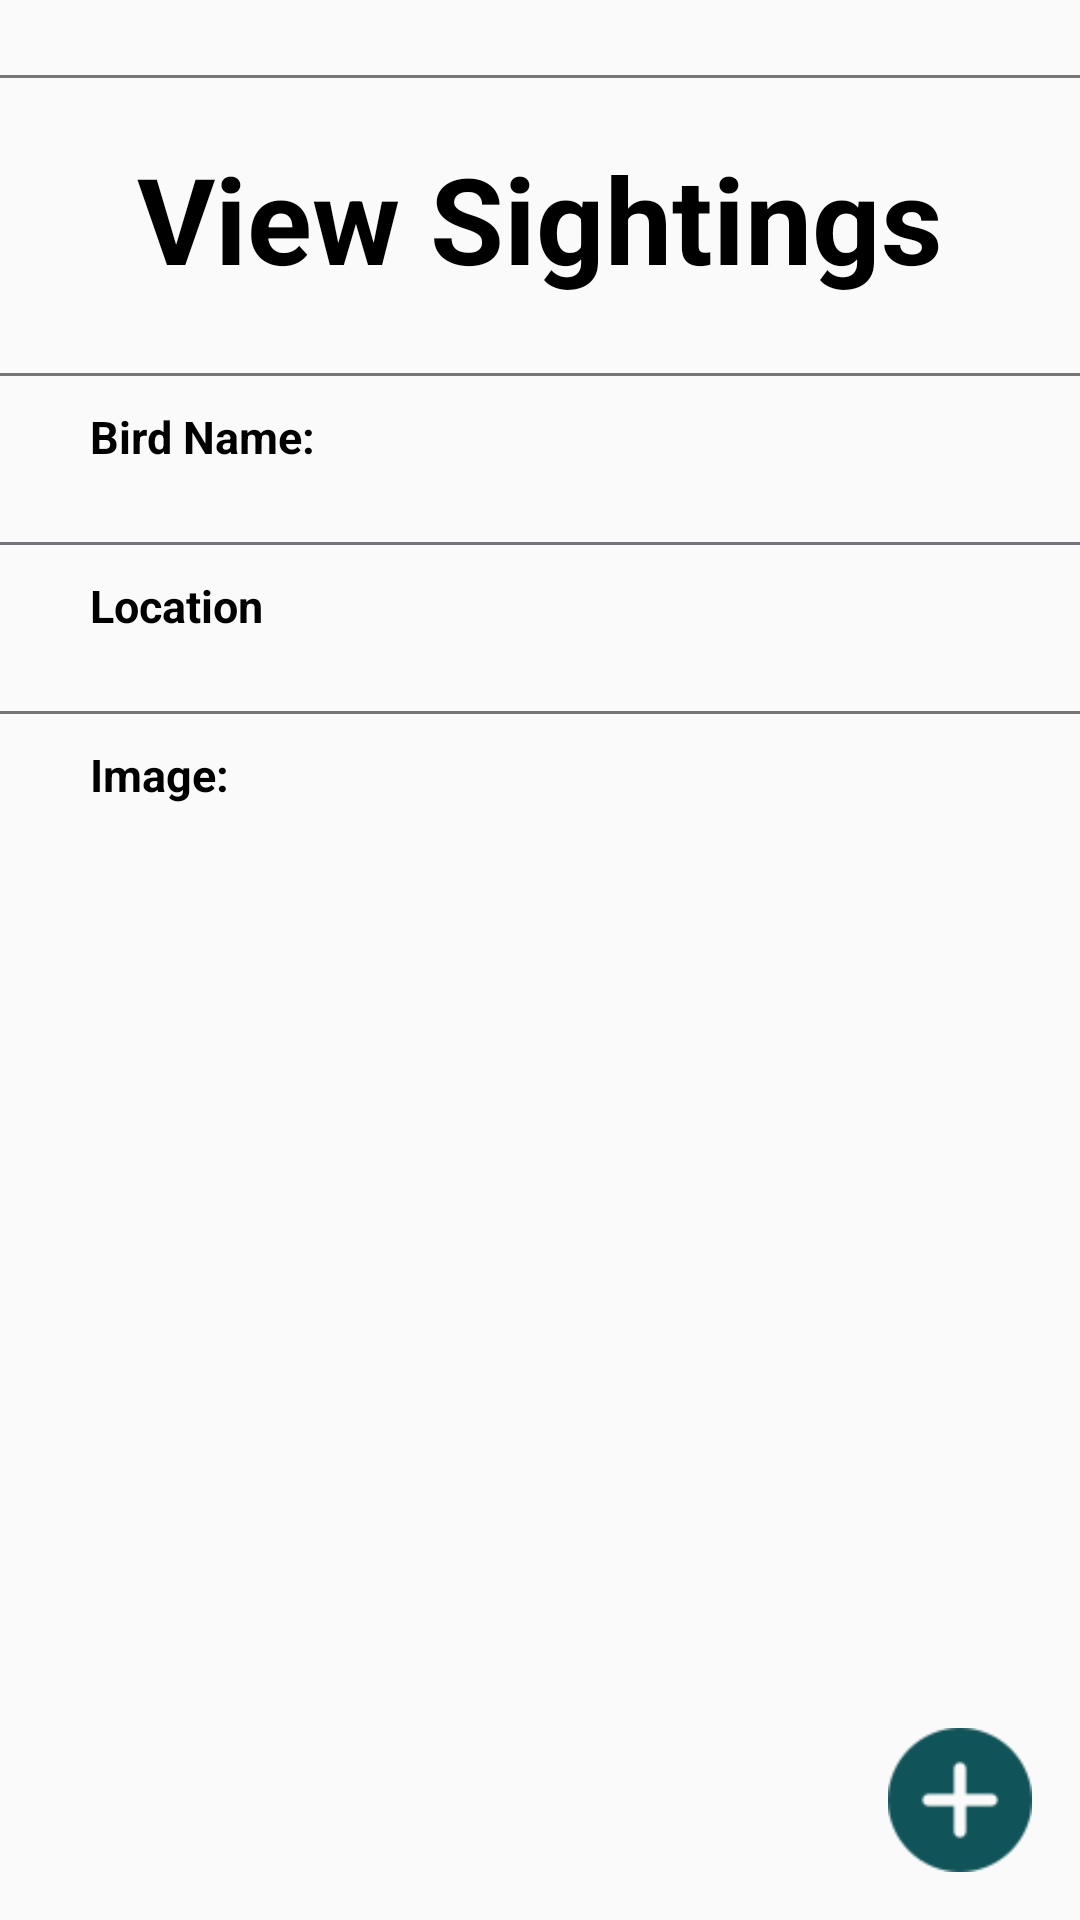

Icon click points for this 1080*1920 phone screenshot, format (x,y):
Add Icon: (960,1800)
